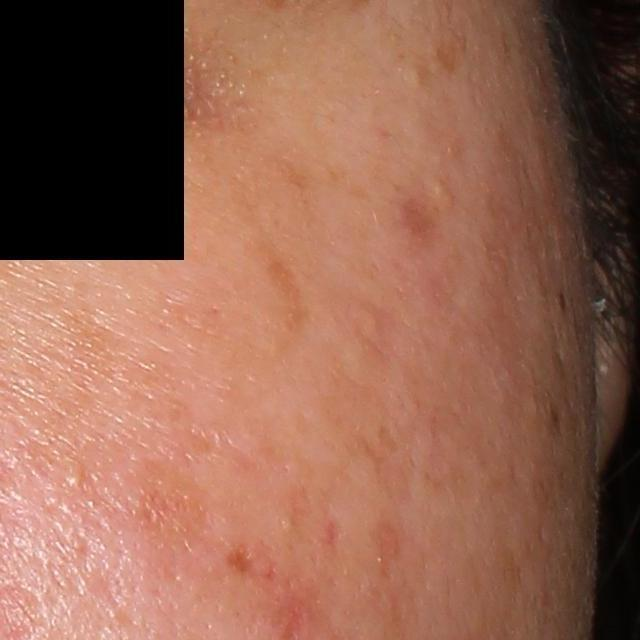comedo: (60, 470, 86, 489)
